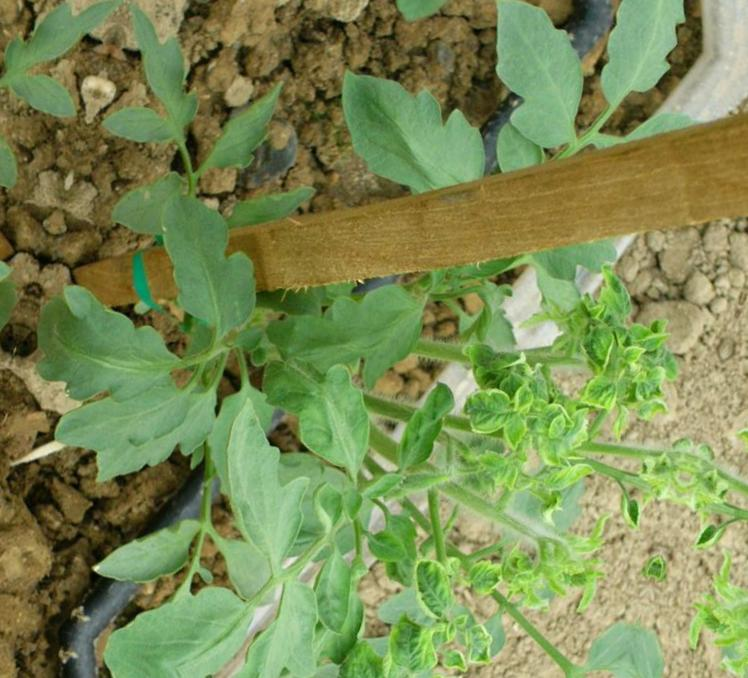Tomato leaf: (190, 413, 350, 609), (15, 273, 199, 428), (269, 247, 446, 408), (323, 60, 509, 206), (128, 185, 283, 341), (77, 551, 262, 678), (461, 0, 617, 147), (48, 346, 200, 493), (570, 18, 697, 134), (196, 65, 294, 199), (93, 493, 209, 605), (298, 538, 372, 638), (559, 593, 643, 678)
